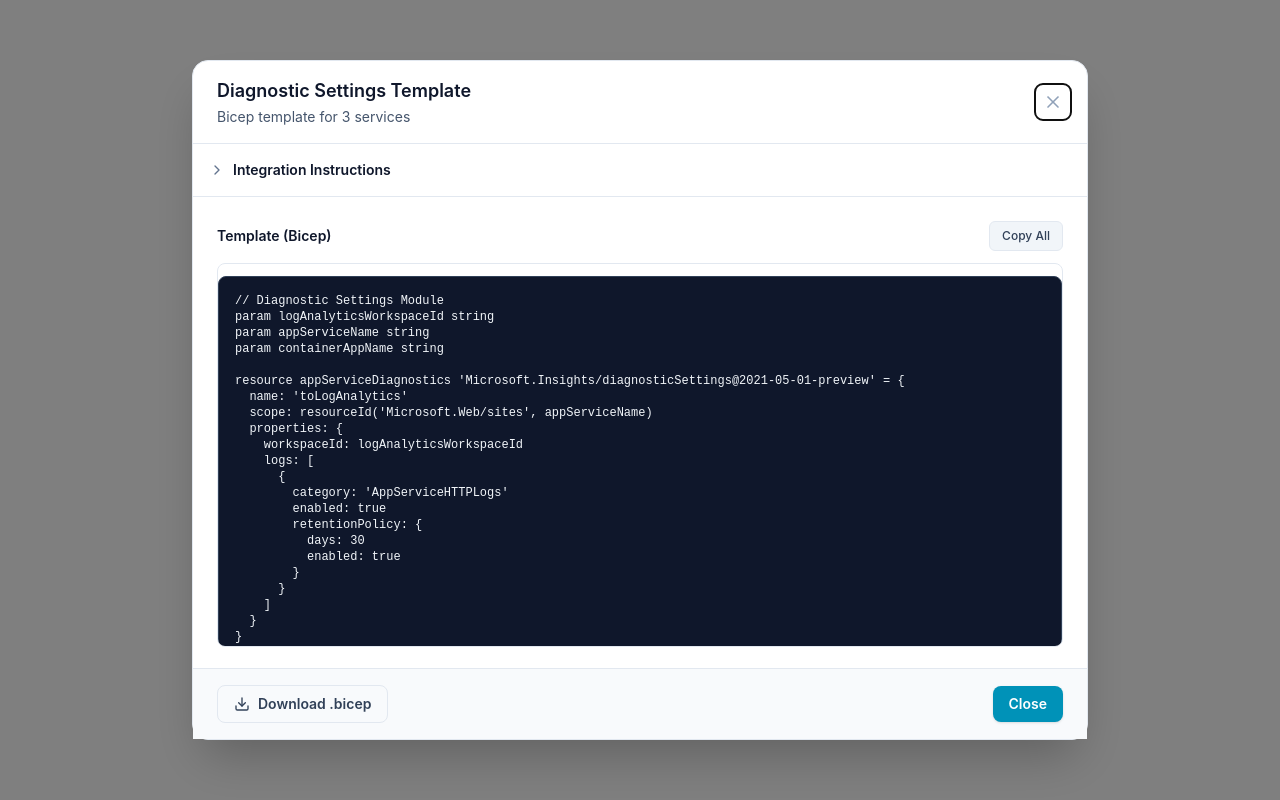
BicepTemplateModal › Copy Functionality › should show "Copied" text after copying
This screenshot has width=1280, height=800.
Click the button "Copy All" at (1026, 236), box [989,221,1063,251]
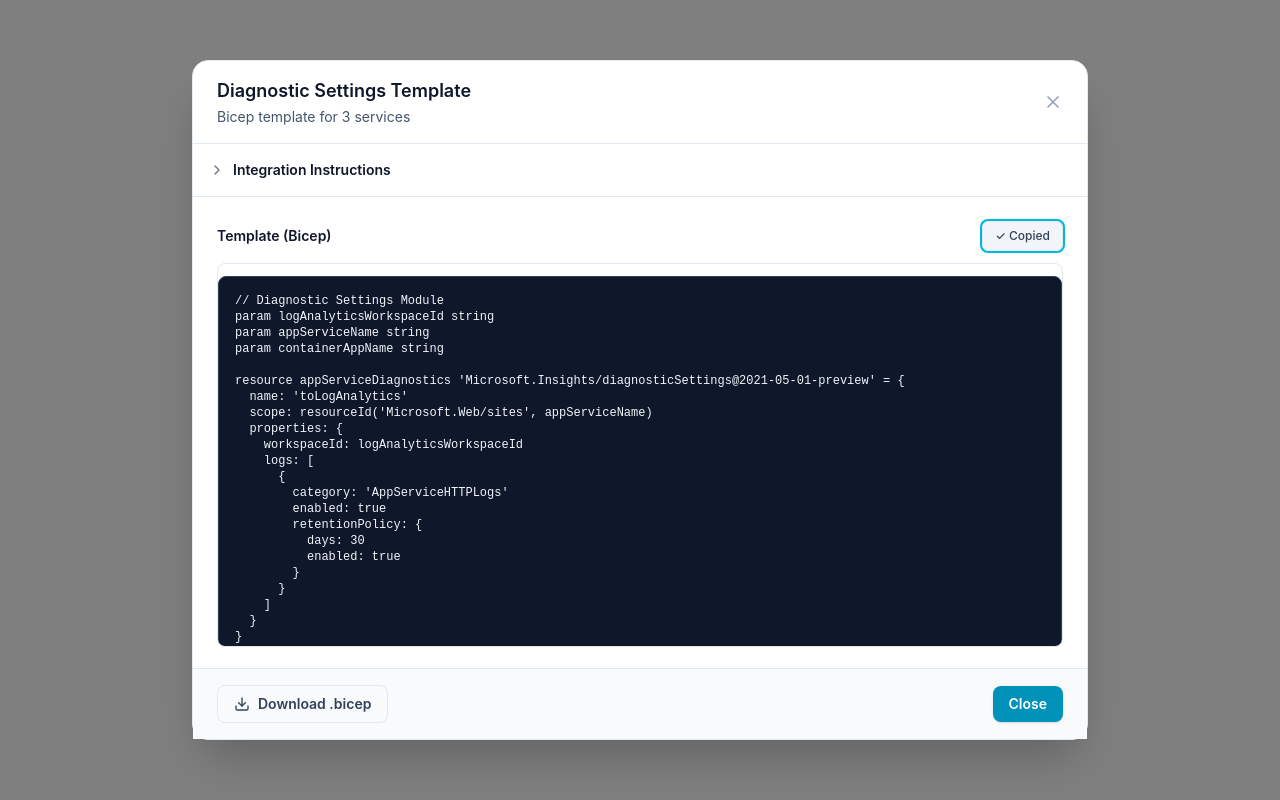
Check: the button "✓ Copied" is shown, box [982,221,1063,251]
